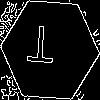T: (25, 25, 56, 72)
